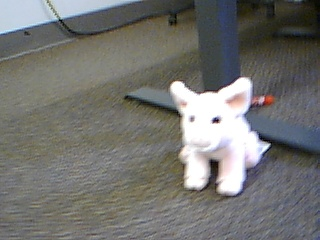piggy: (168, 76, 263, 198)
